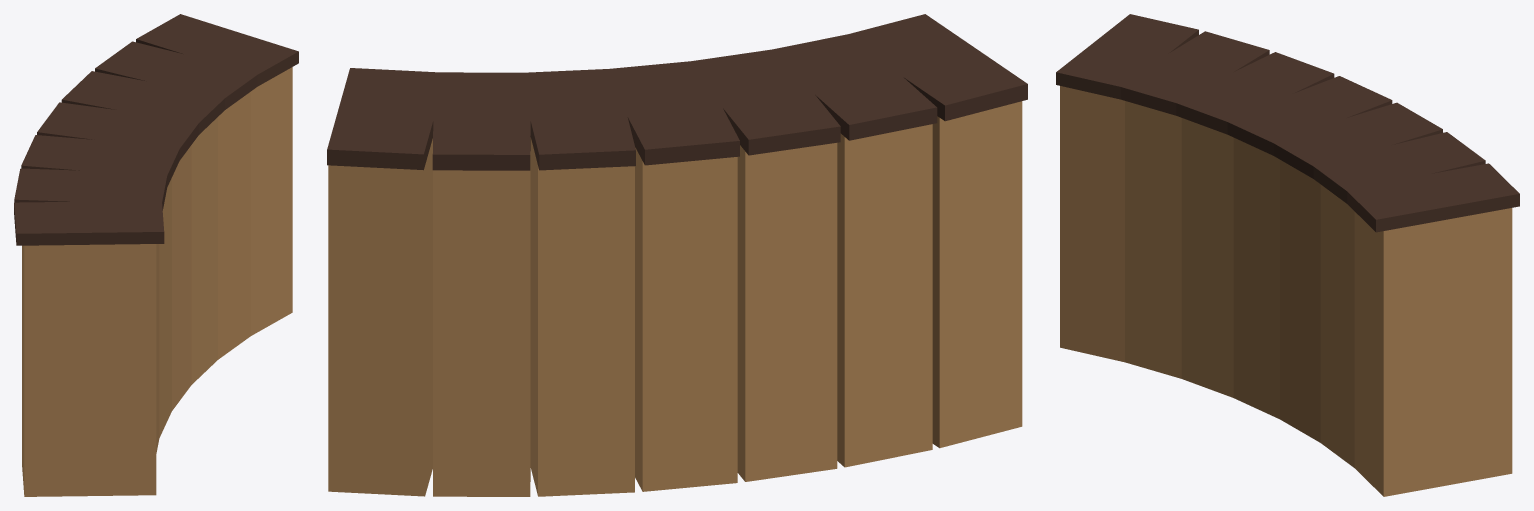
3 views of the same model, side by side, from view 1: azimuth 30°, elevation 25°; view 2: azimuth 150°, elevation 25°; view 3: azimuth 270°, elevation 25° (orthographic). The views are drawn at different scales.
Visible parts, largest first — view 1: checkout; view 2: checkout; view 3: checkout.
Part boxes in pixels (box(x1,y1,x2,y2)): checkout: box(14, 14, 298, 496); checkout: box(327, 14, 1027, 496); checkout: box(1056, 14, 1519, 496).
Size of the model in its own units: 1.74 by 1.66 by 1.1.
